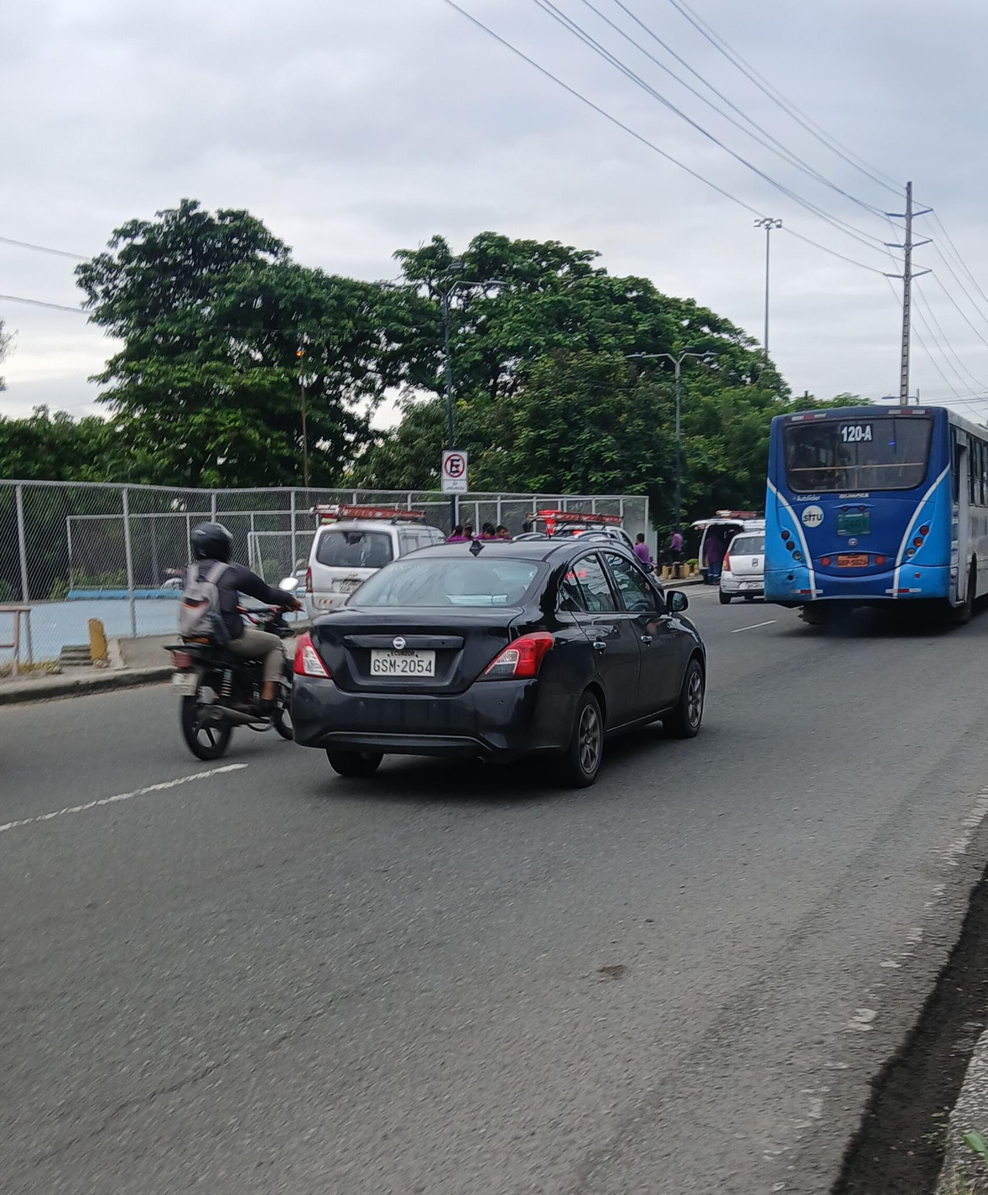license_plate: (369, 650, 435, 676), (172, 672, 194, 701), (333, 578, 361, 593), (839, 555, 866, 566), (742, 582, 763, 589)
